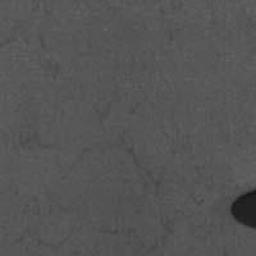Punching: (230, 189, 256, 230)
